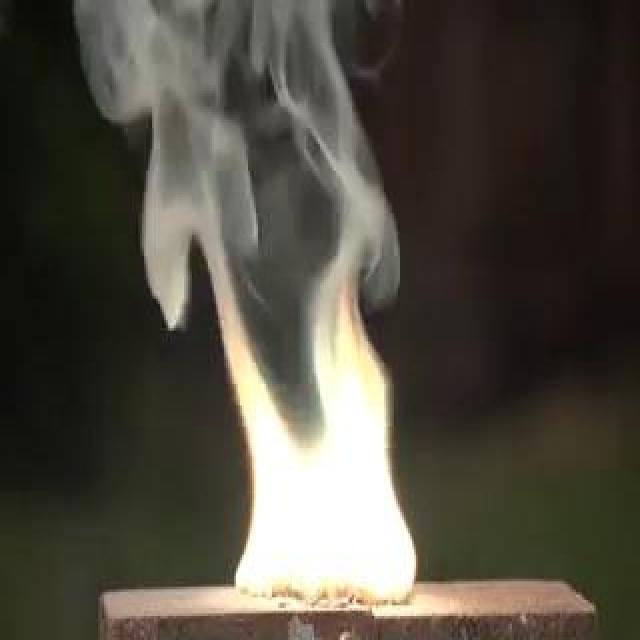Fire: (186, 354, 324, 430)
